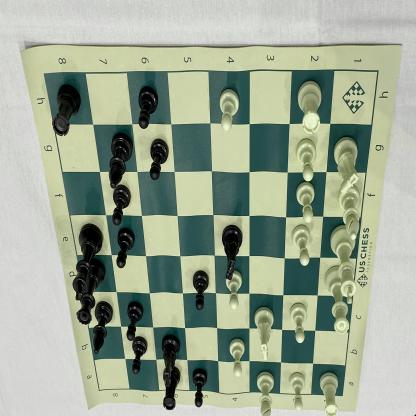black-bishop: (109, 132, 133, 190), (94, 301, 112, 356)
black-king: (72, 225, 103, 302)
black-knight: (220, 224, 245, 282), (162, 334, 180, 389)
black-pawn: (138, 86, 160, 130), (115, 226, 136, 270), (148, 138, 170, 180), (111, 184, 133, 224), (192, 269, 210, 312), (126, 301, 145, 340), (132, 334, 148, 375), (192, 368, 208, 408)
black-queen: (75, 266, 102, 326)
black-rook: (51, 83, 81, 137), (162, 366, 181, 413)
white-bishop: (337, 185, 363, 242), (255, 372, 275, 416)
white-king: (330, 225, 360, 304)
white-knight: (334, 137, 361, 197), (252, 306, 276, 362)
white-pawn: (219, 88, 241, 134), (290, 225, 312, 266), (296, 138, 316, 183), (296, 181, 315, 225), (290, 302, 308, 344), (288, 372, 306, 412), (226, 272, 242, 312), (230, 337, 245, 377)
white-queen: (324, 266, 351, 336)
white-rook: (298, 81, 323, 136), (318, 371, 341, 416)
